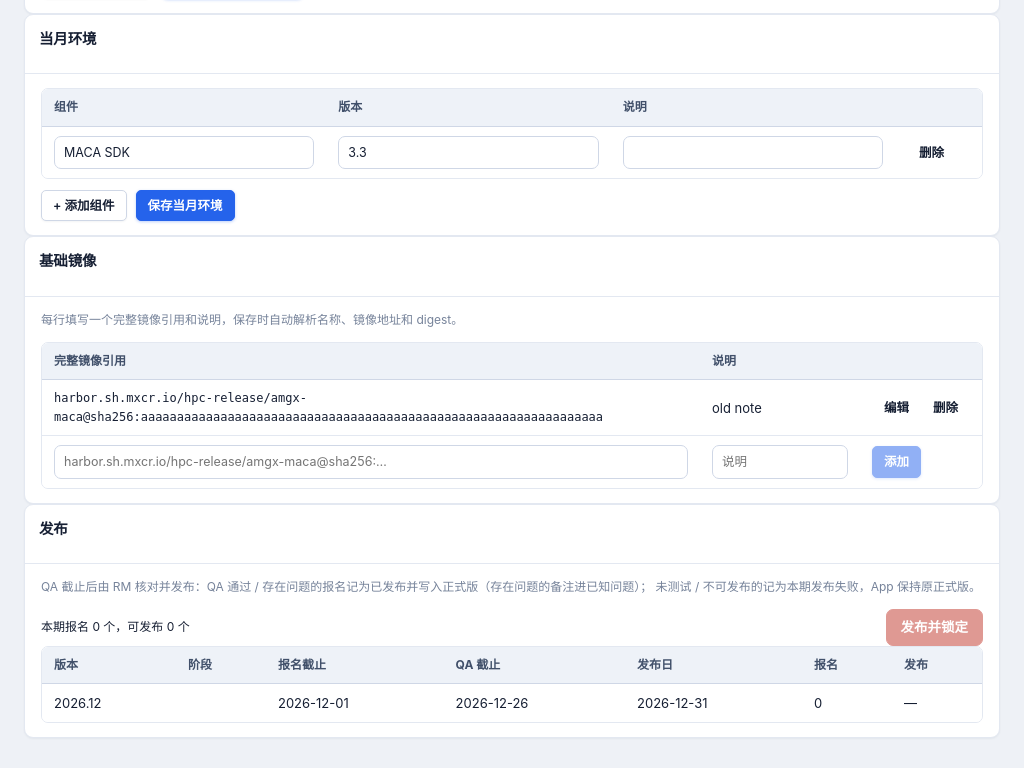
Test: base images › reassembles saved fields for editing and lets RM cancel without writes
(page scrolled)
Click the button "编辑". click: (896, 408)
box: [872,392,921,423]
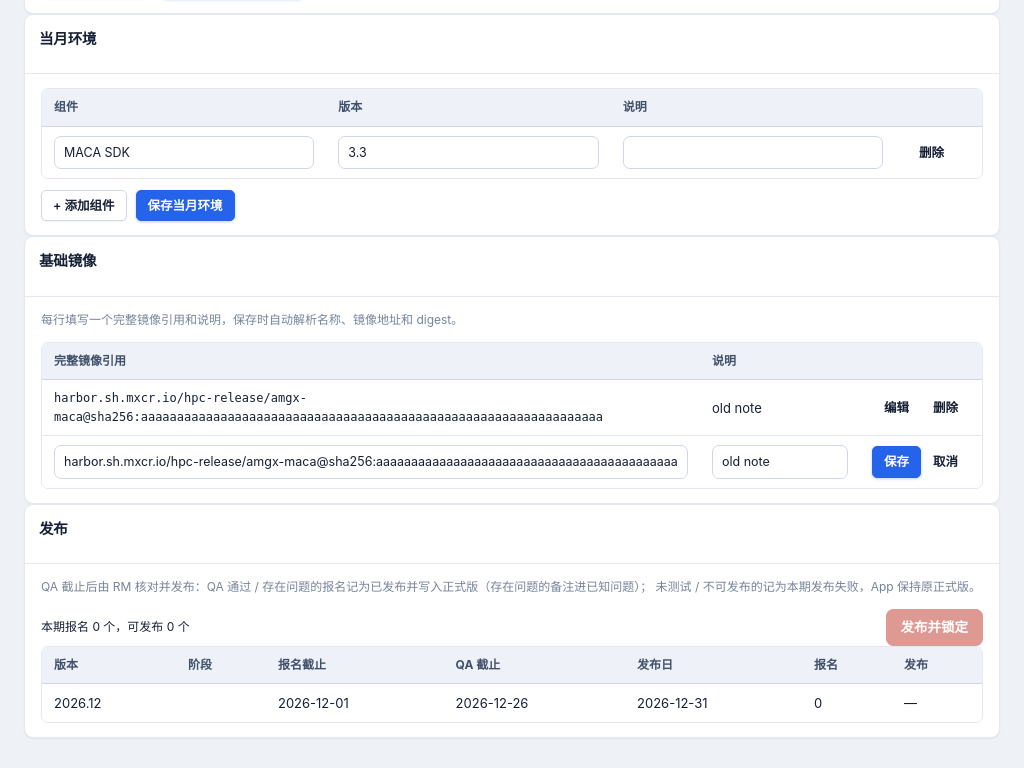
Check: the field named "说明" below "old note" holds "old note", box [712,445,848,479]
Click the button "取消". click: (946, 462)
box: [921,446,970,478]
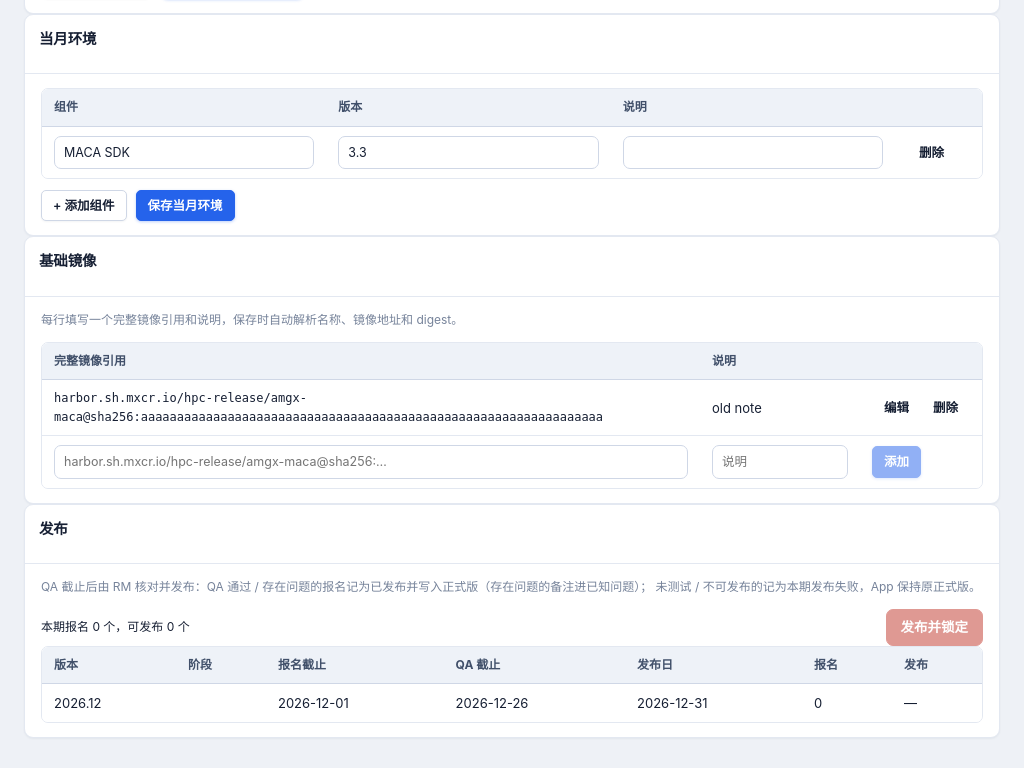
Check: the field named "完整镜像引用" is empty, box [54,445,688,479]
